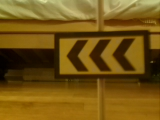left: (55, 33, 149, 78)
